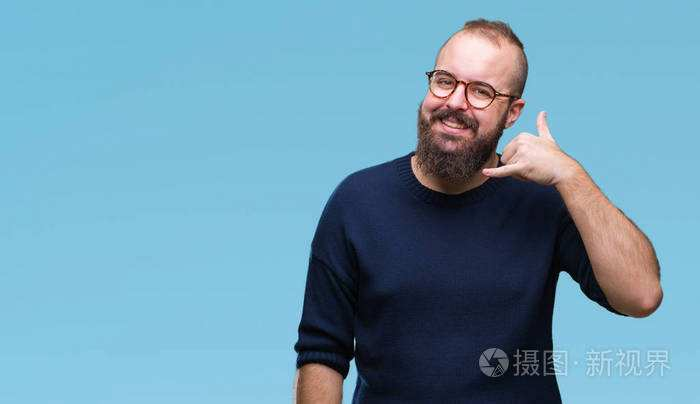no-phone: (479, 109, 577, 188)
